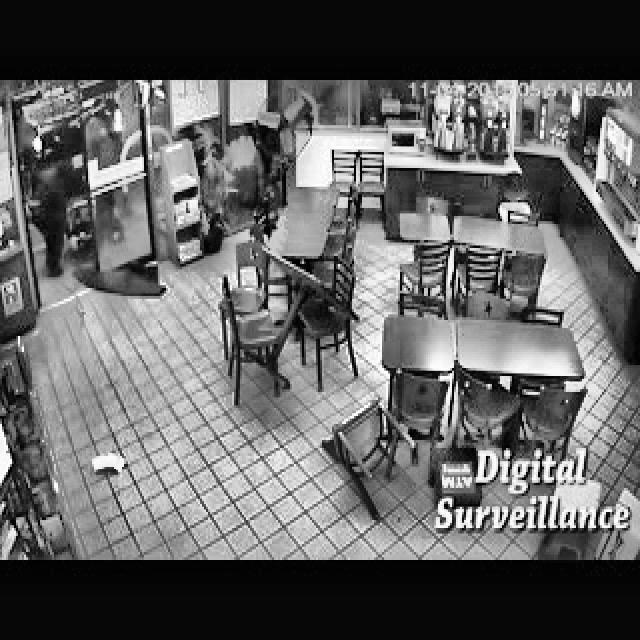burglary: (25, 104, 127, 285)
